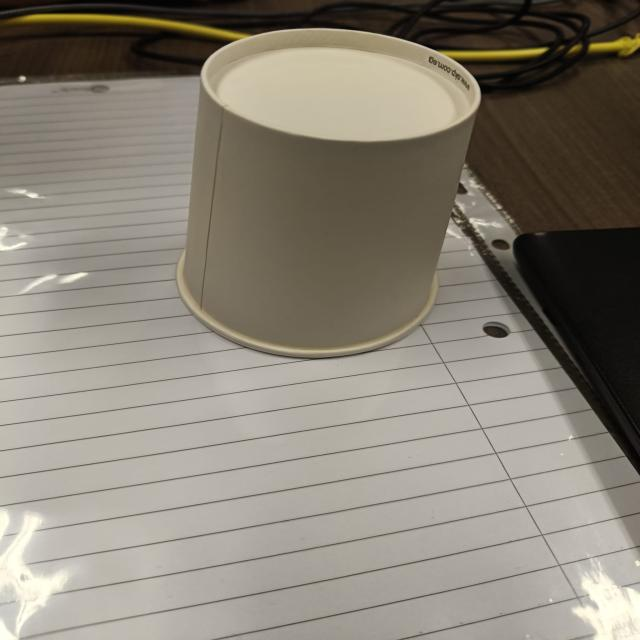Whitecup: (181, 30, 479, 357)
